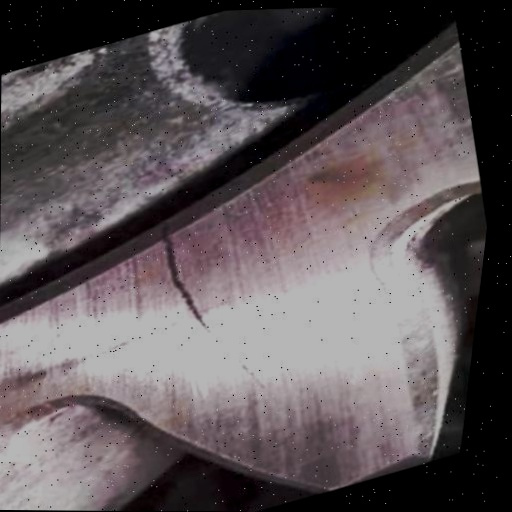crack: (116, 195, 302, 433)
